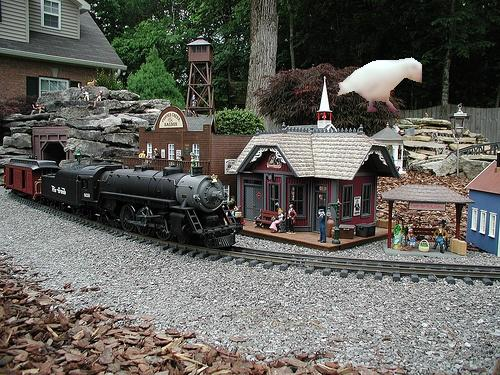tampered: (338, 58, 422, 112)
